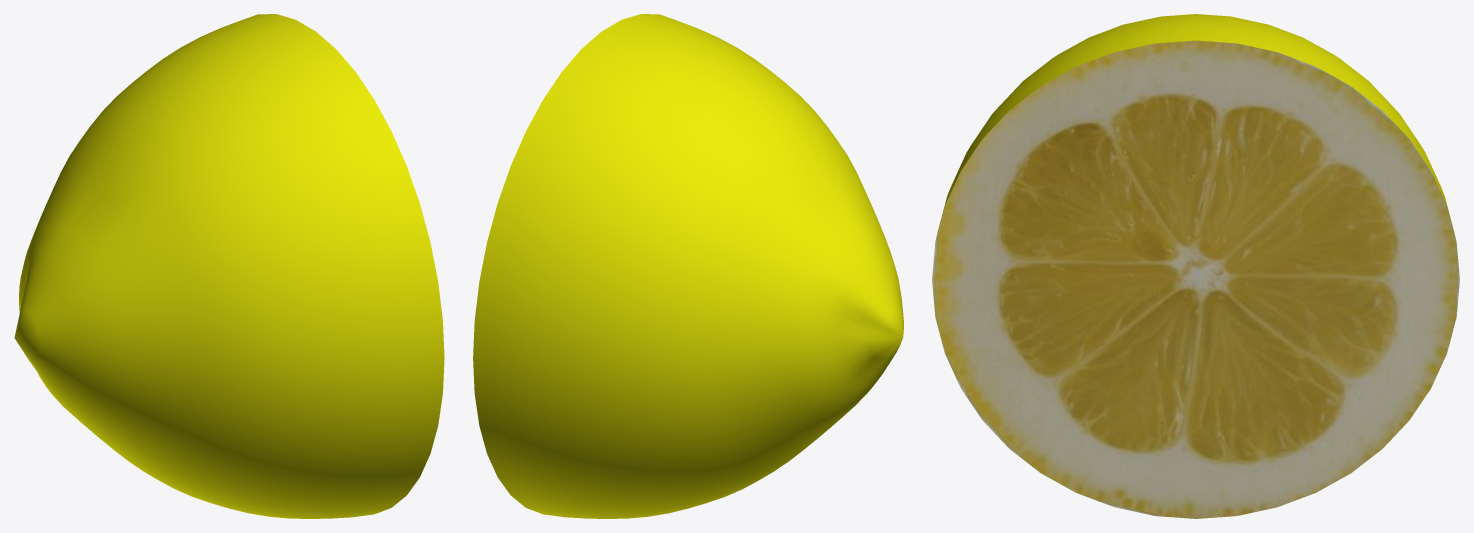
Rendered from Zitrone (mit wiederimportierter BumpDatei).fbx.
The picture shows the model from 3 angles, left to right: view 1: azimuth 30°, elevation 25°; view 2: azimuth 150°, elevation 25°; view 3: azimuth 270°, elevation 25°; orthographic projection. The views are drawn at different scales.
Visible parts, largest first — view 1: Zitrone_rechte_Haelfte; view 2: Zitrone_rechte_Haelfte; view 3: Zitrone_rechte_Haelfte.
Boxes of the visible parts, x1,y1,x2,y2 form: Zitrone_rechte_Haelfte: (14,14,444,518); Zitrone_rechte_Haelfte: (473,14,903,518); Zitrone_rechte_Haelfte: (932,14,1459,518).
Size of the model in its own units: 2.4 by 3.53 by 3.53.
Materials: 2 (1 with a texture image).
